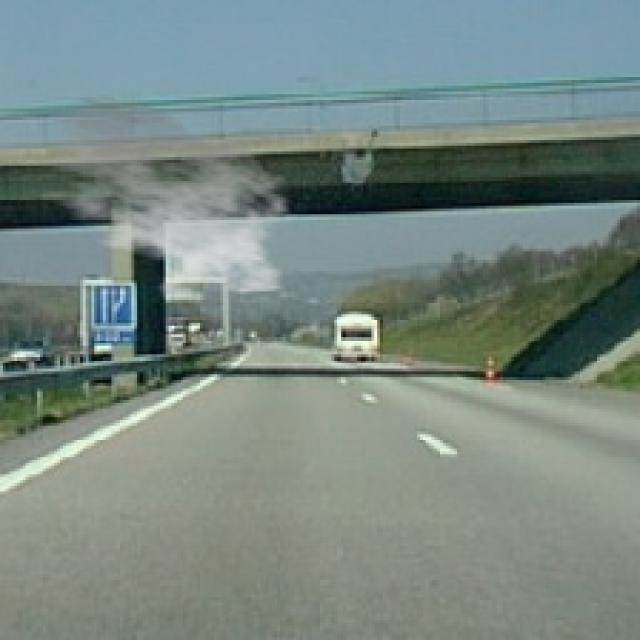Smoke: (23, 94, 300, 300)
